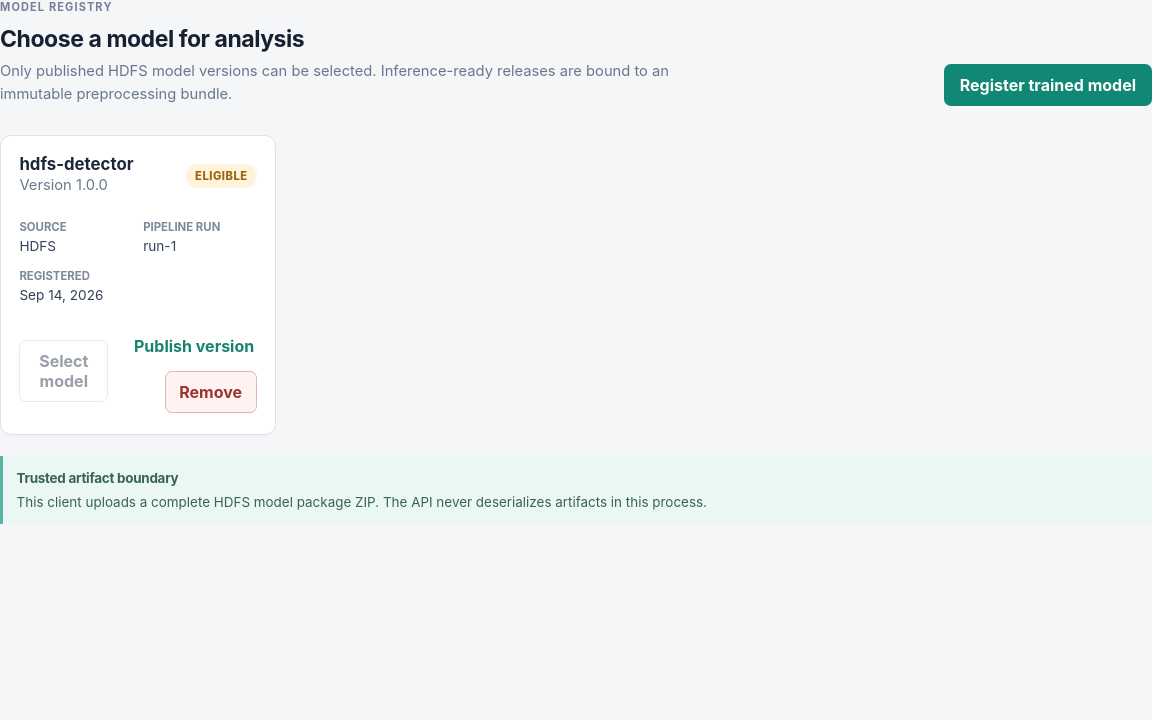
Test: Remove deny copy › shows a model Remove 403 alert and keeps the action visible
Click the button "Remove": (211, 392) [165,371,257,413]
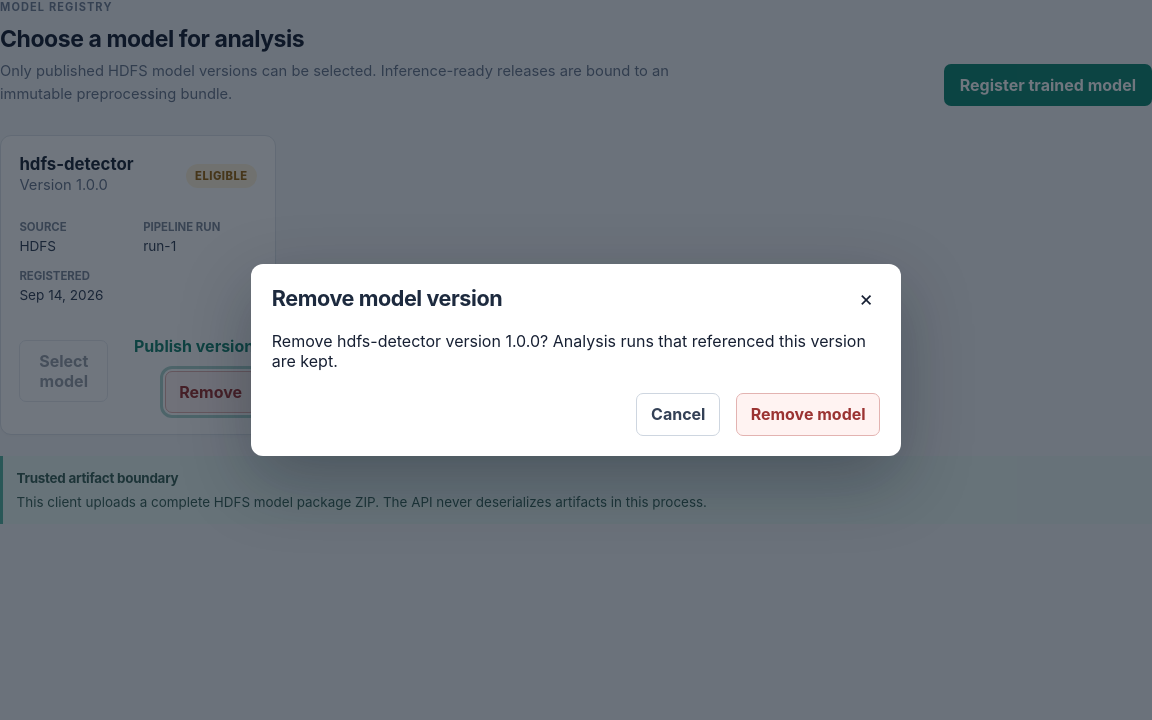
Click the button "Remove model": (808, 414) [736,393,880,436]
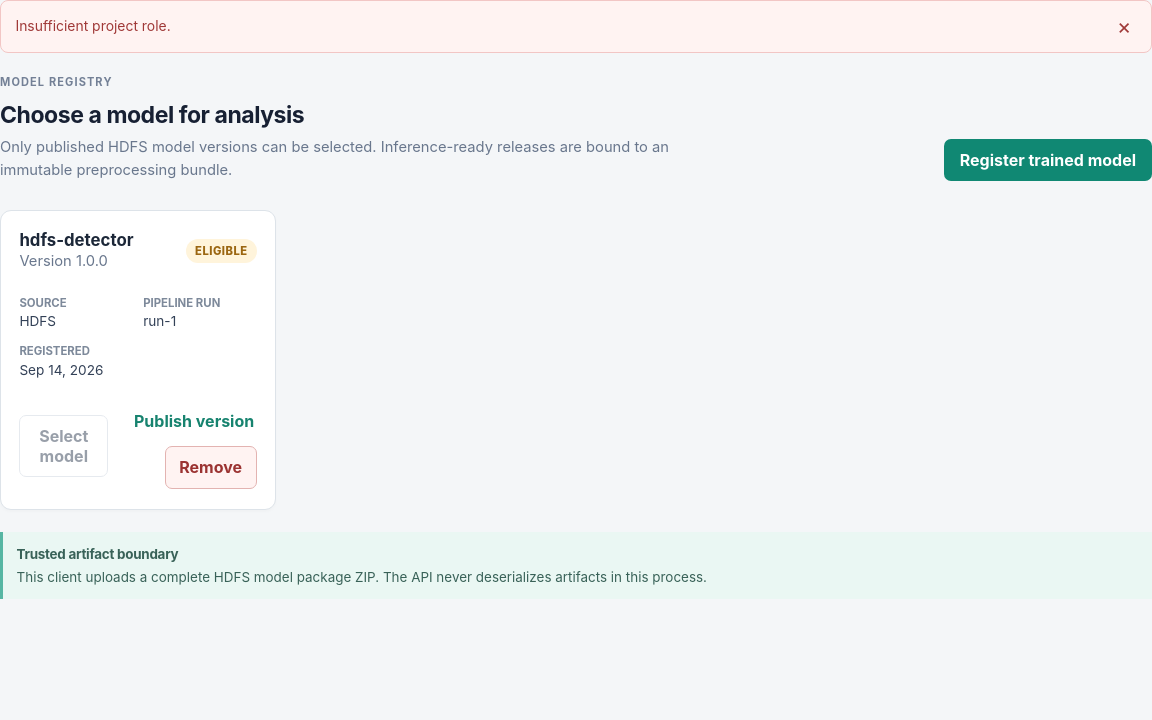
Expected: the button "Remove" is shown, [165,446,257,489]
Now the message shows "Insufficient project role.", box [15,18,171,34]
